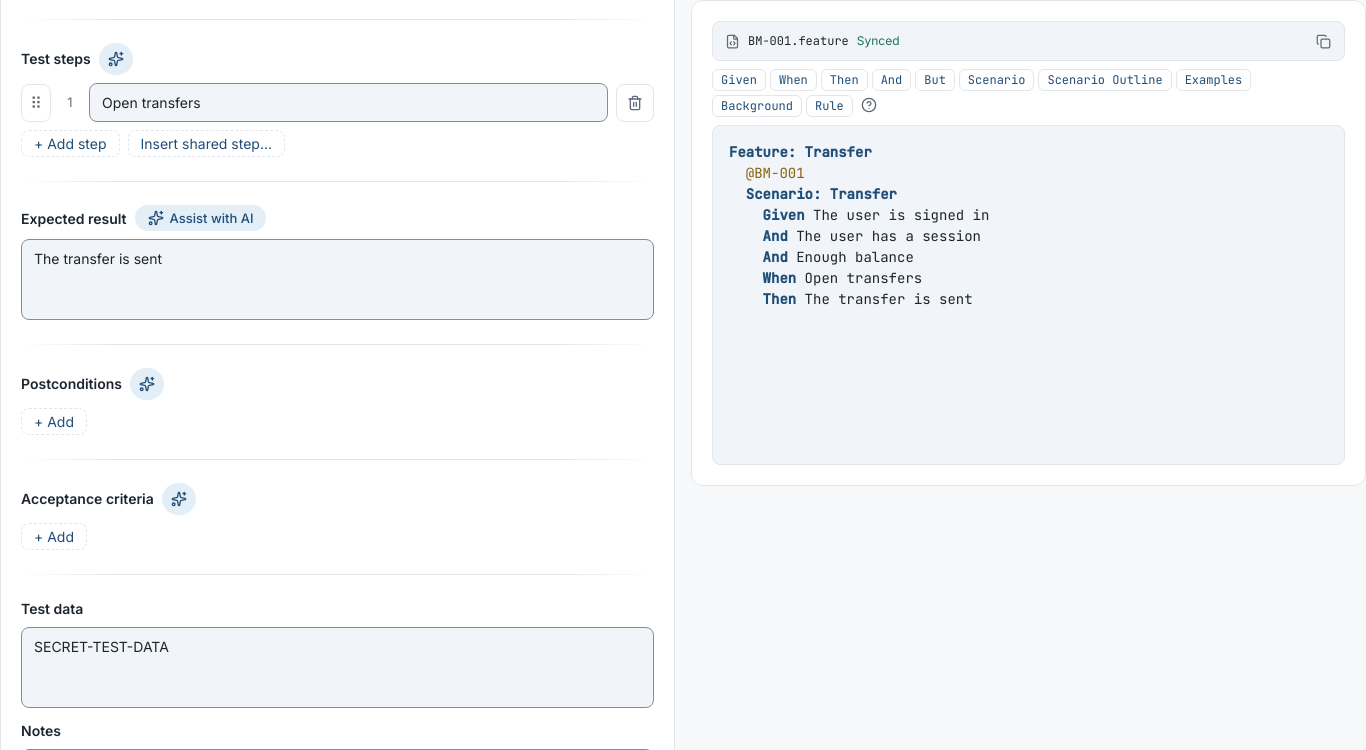
TestCaseEditor AI (IA-16) › discarding applies nothing
The image size is (1366, 750).
(page scrolled)
Click the button named "Suggest postconditions". click: [147, 384]
box: [130,368,164,400]
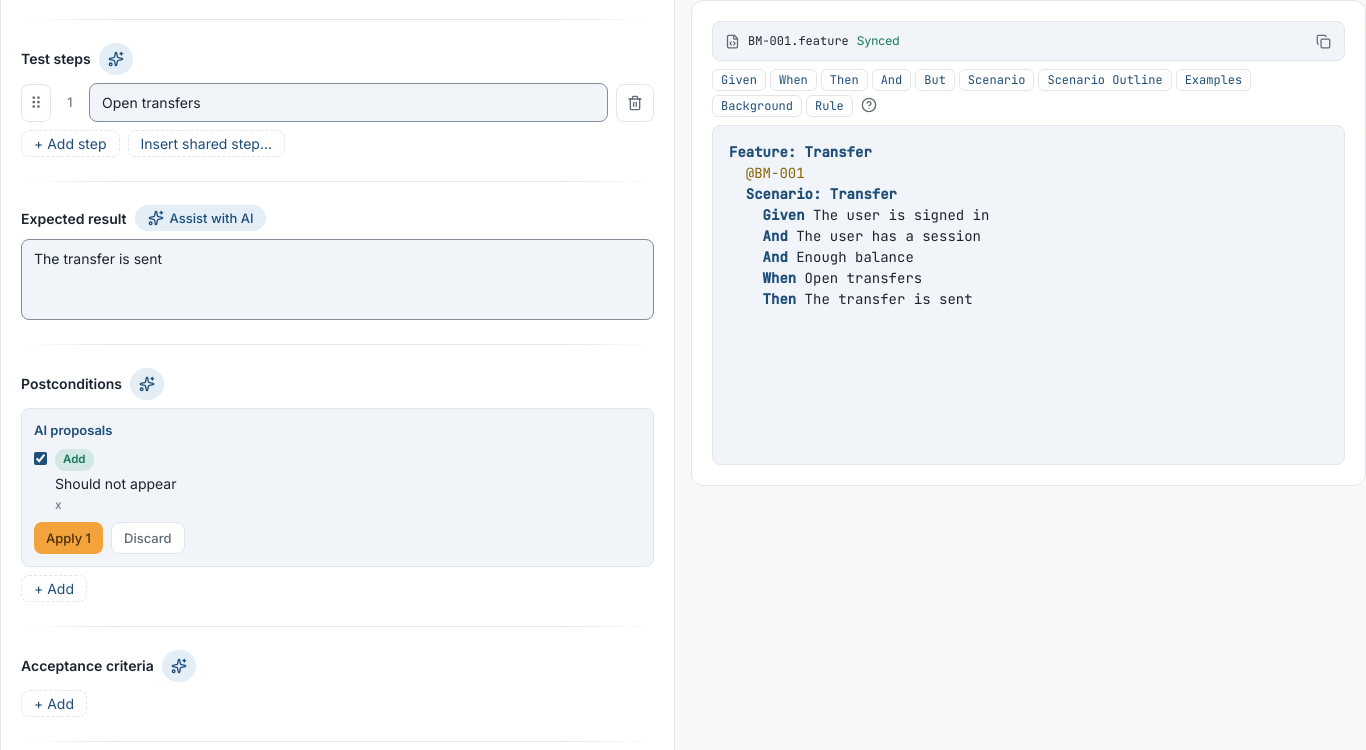
Now the checkbox labelled "Add Should not appear x" is shown, box [34,452,47,464]
Click the button "Discard". click: [148, 538]
box: [111,522,184,554]
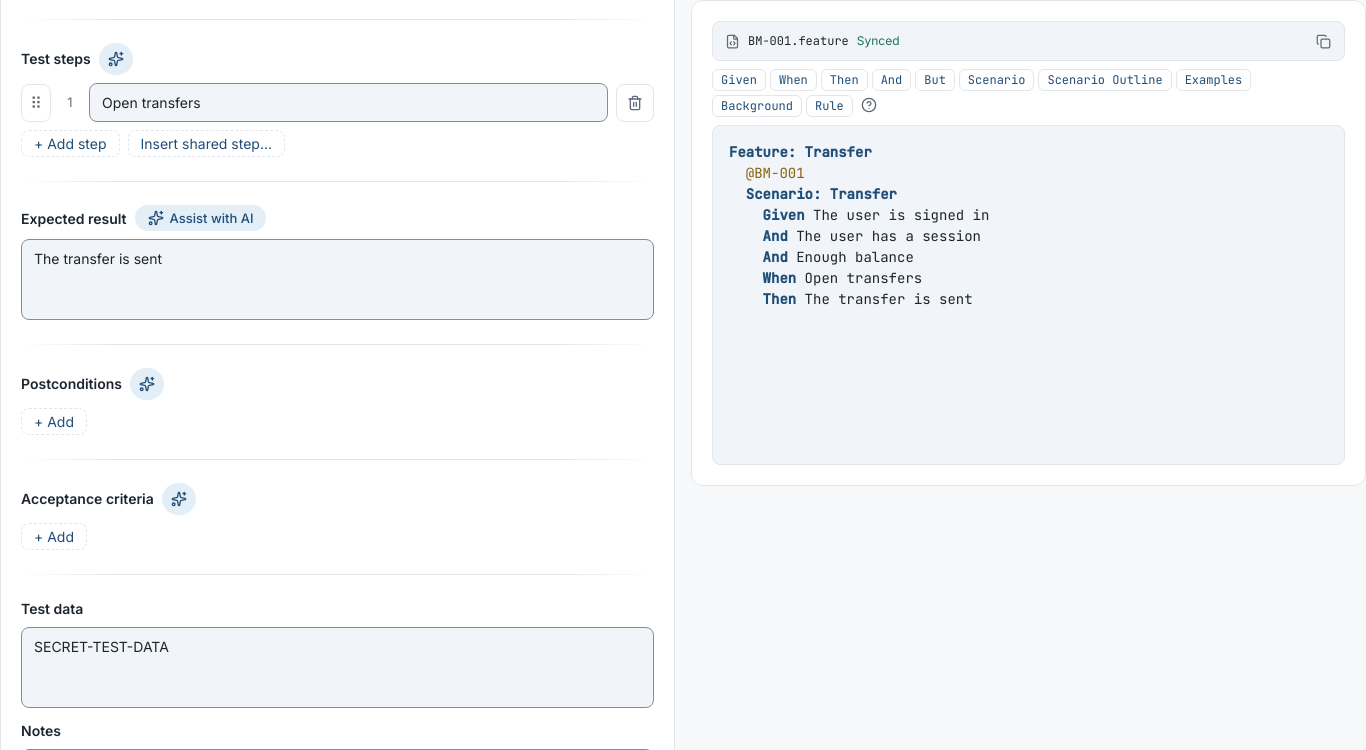
Now the text showing "Should not appear" is gone
